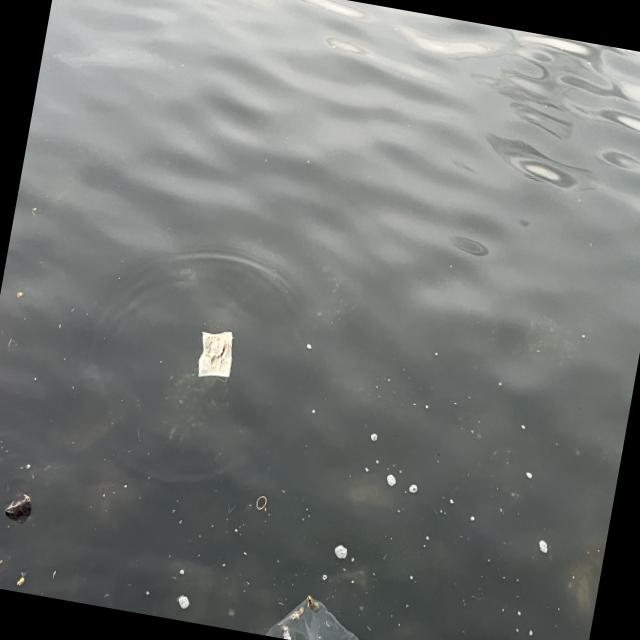plastic bottle: (253, 585, 394, 640)
unknow: (194, 326, 237, 384)
